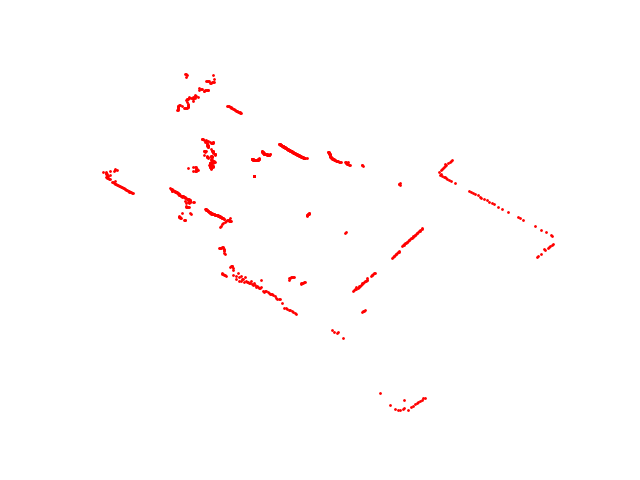person: (249, 146, 273, 166), (285, 273, 309, 289)
